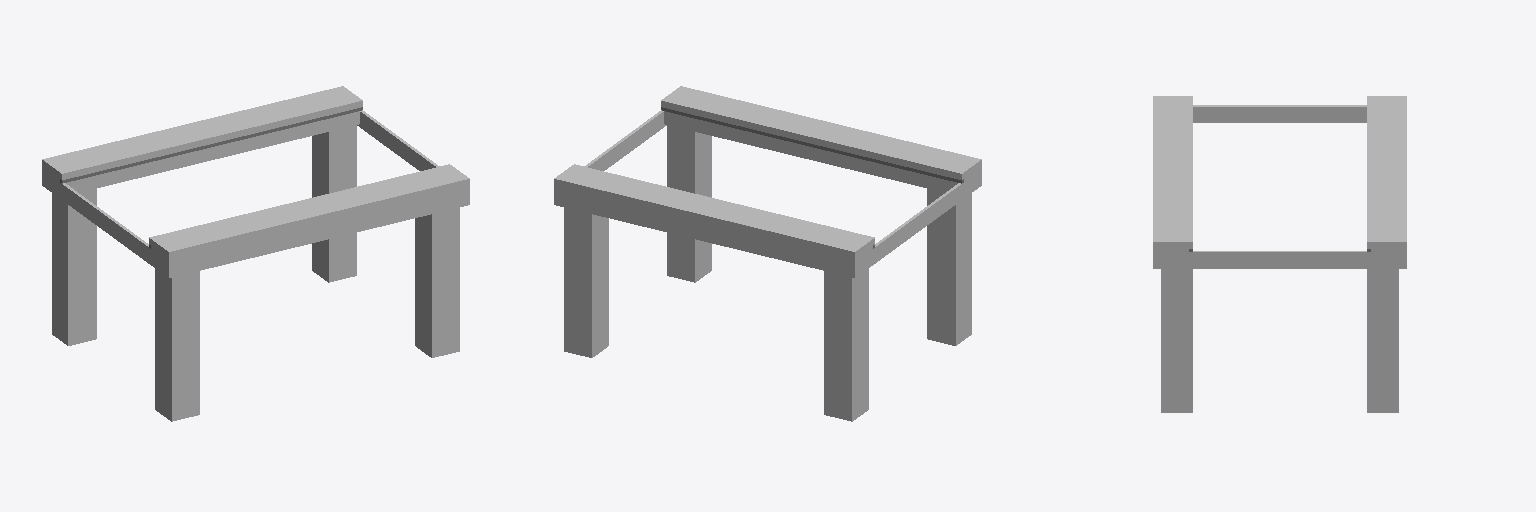
3 views of the same model, side by side, from view 1: azimuth 30°, elevation 25°; view 2: azimuth 150°, elevation 25°; view 3: azimuth 270°, elevation 25° (orthographic).
Visible parts, largest first — view 1: plataformas-4; view 2: plataformas-4; view 3: plataformas-4.
Boxes of the visible parts, x1,y1,x2,y2 form: plataformas-4: [42, 86, 469, 421]; plataformas-4: [554, 86, 981, 421]; plataformas-4: [1153, 96, 1406, 412].
Size of the model in its own units: 9.6 by 5.3 by 7.
Materials: 1 (1 with a texture image).